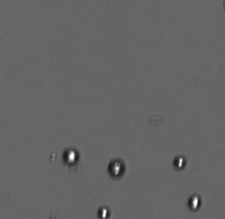Living Cell: (106, 157, 125, 179), (62, 146, 79, 166), (187, 193, 203, 212), (171, 154, 188, 171), (96, 204, 114, 218)
